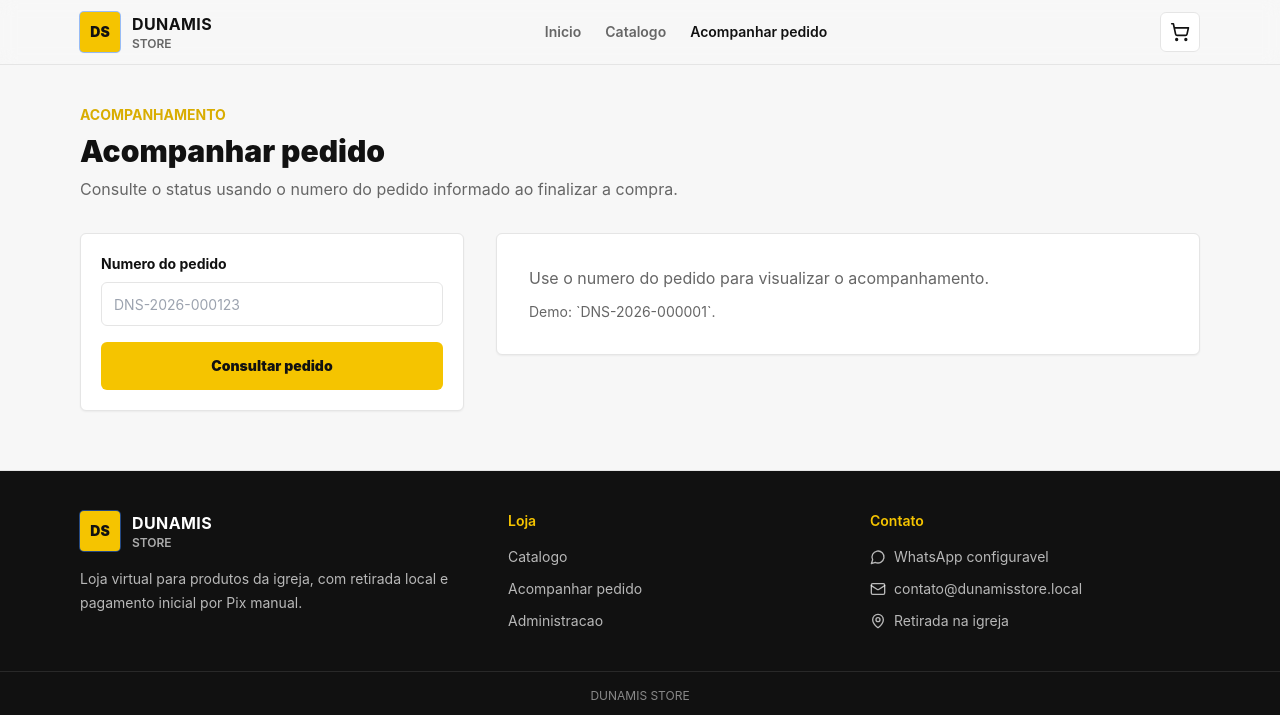
Test: OrderTrackingPage › tracks a demo order by number
Type "DNS-2026-000001" into the field labelled "Numero do pedido".
click(272, 304); type("DNS-2026-000001")  # box [101, 282, 443, 326]
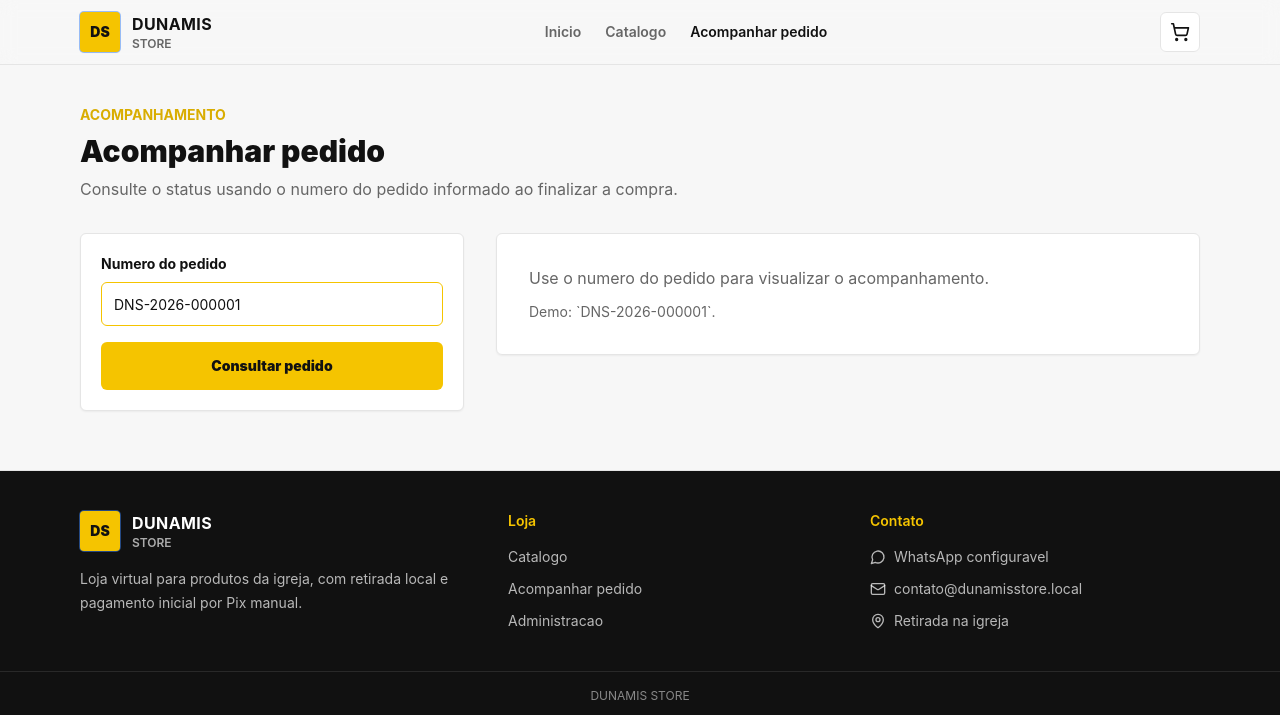
Click the button "Consultar pedido".
click(272, 366)  # box [101, 342, 443, 390]
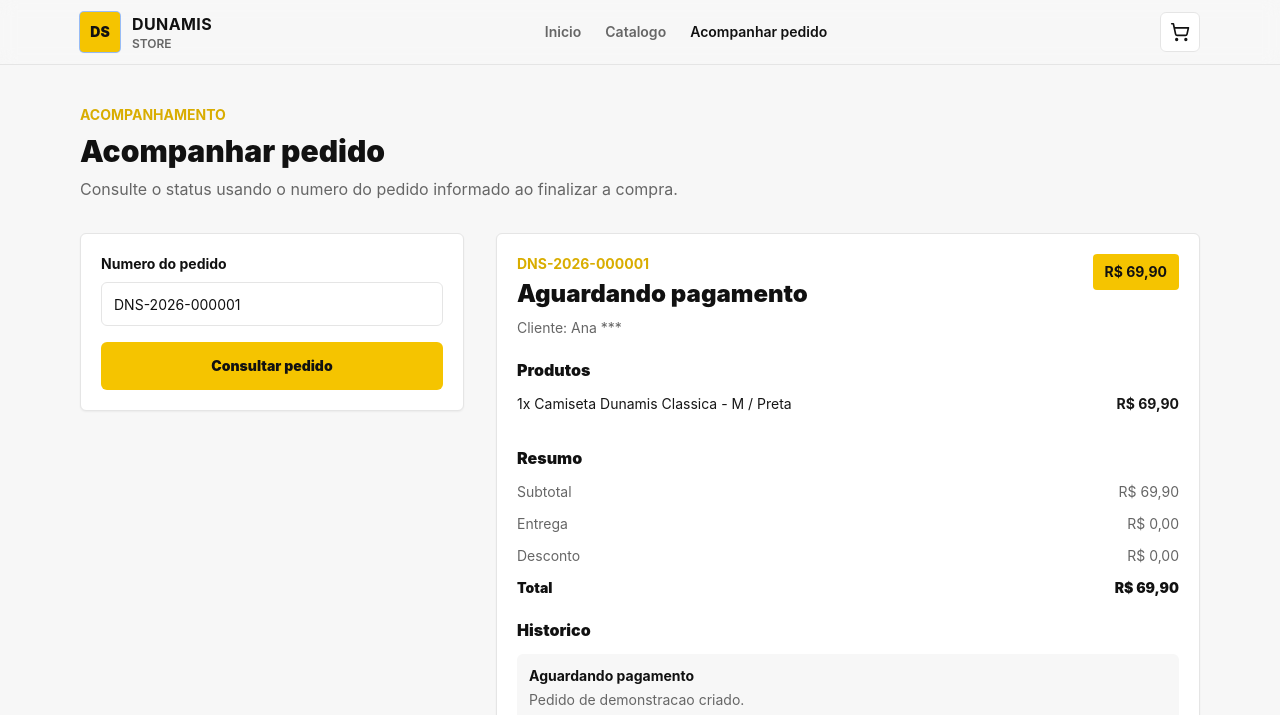
Result: the heading "Aguardando pagamento" is shown at [517, 278, 808, 310]
Result: the text "1x Camiseta Dunamis Classica - M / Preta" is shown at [517, 394, 792, 414]
